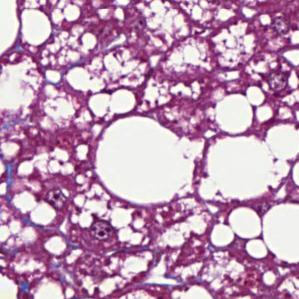steatosis: (95, 116, 197, 203)
